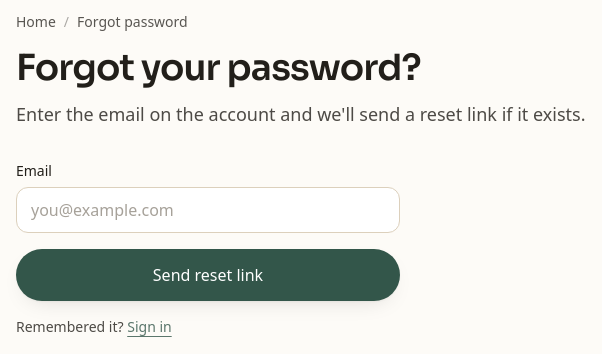
it: ForgotPage › shows the same confirmation after submit and does not mention whether the account exists
Step 1. Type "nobody@example.com" into the field labelled "Email" → (208, 210), box [16,187,400,233]
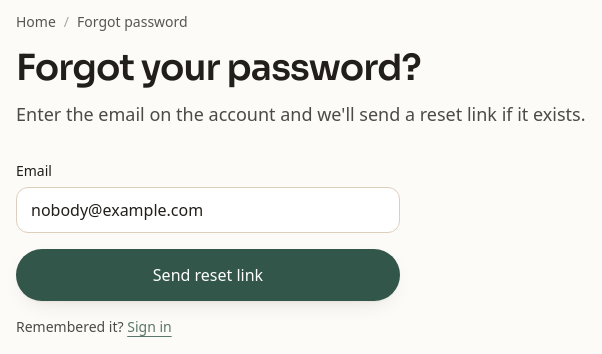
Step 2. Click the button "Send reset link" → (208, 275), box [16,249,400,301]
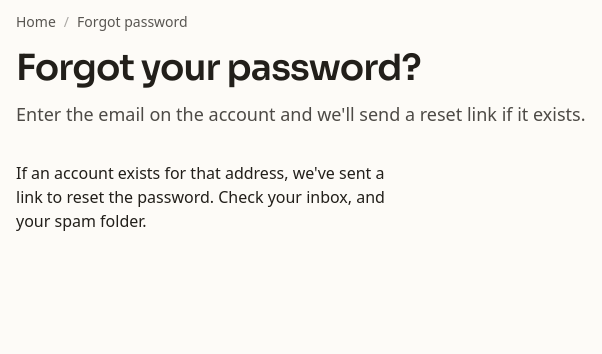
Check: the text "If an account exists for that address" is shown, box [16,162,385,232]
